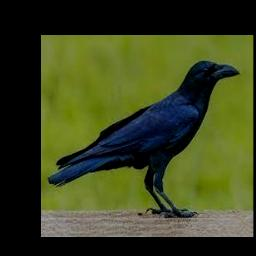Crow: (47, 60, 239, 216)
